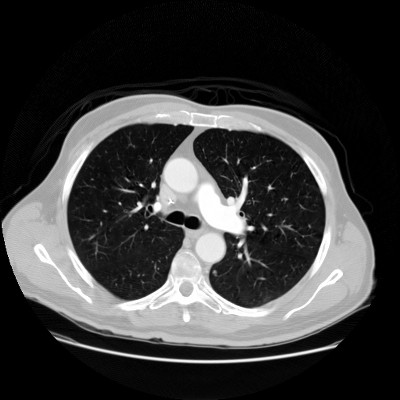nodule: (213, 271, 217, 275)
